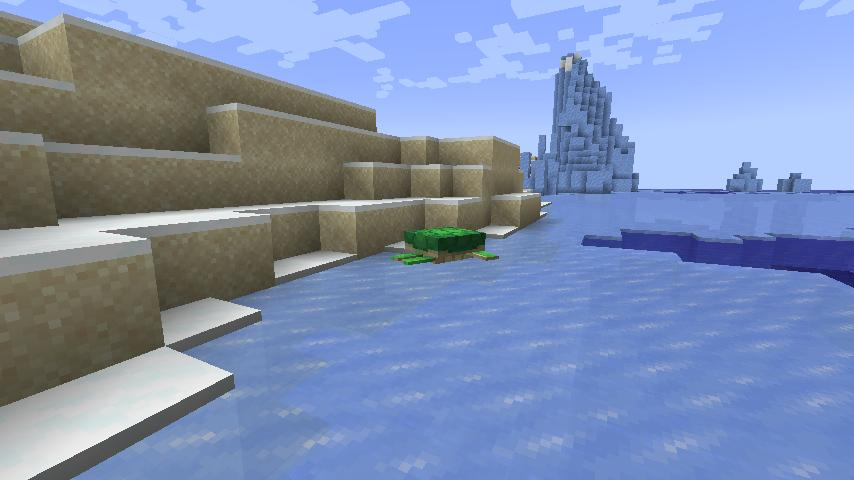turtle: (398, 222, 501, 267)
